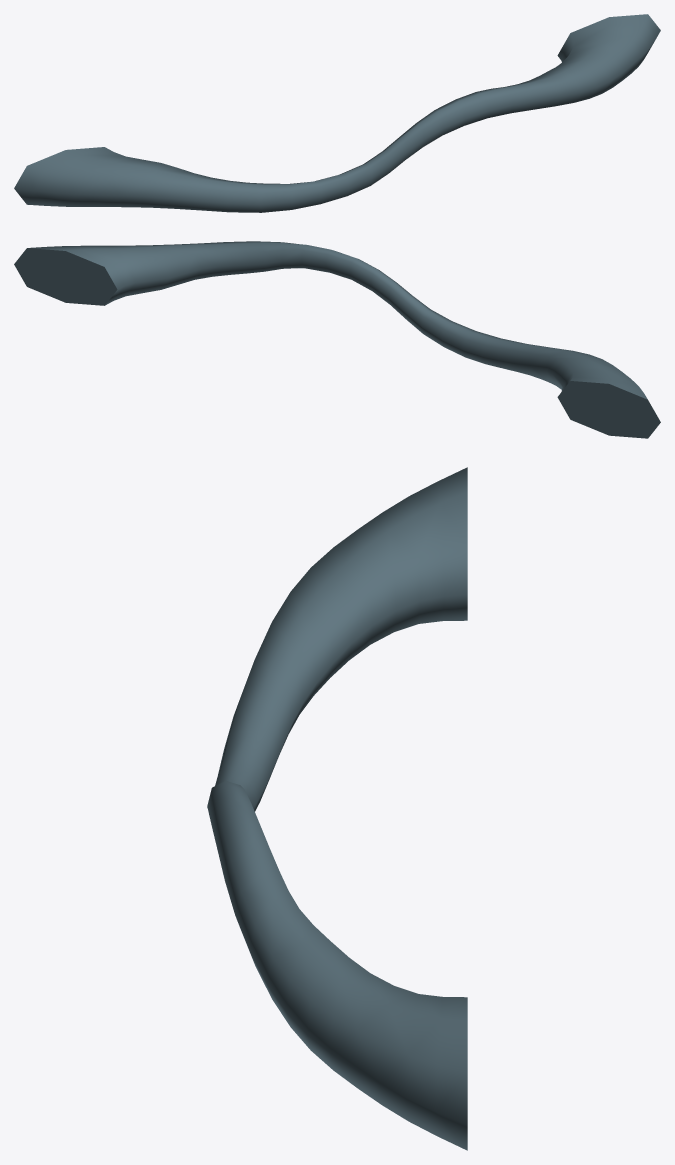
The model's file is wiggly handle.FBX.
3 views of the same model, one above another, from view 1: azimuth 30°, elevation 25°; view 2: azimuth 150°, elevation 25°; view 3: azimuth 270°, elevation 25° (orthographic). The views are drawn at different scales.
Parts seen in each view (by area): view 1: right side; view 2: right side; view 3: right side.
Boxes of the visible parts, <box> form: right side: <box>14,14,660,212</box>; right side: <box>14,241,660,438</box>; right side: <box>207,467,467,1150</box>.
Size of the model in its own units: 144 by 15.17 by 25.05.
